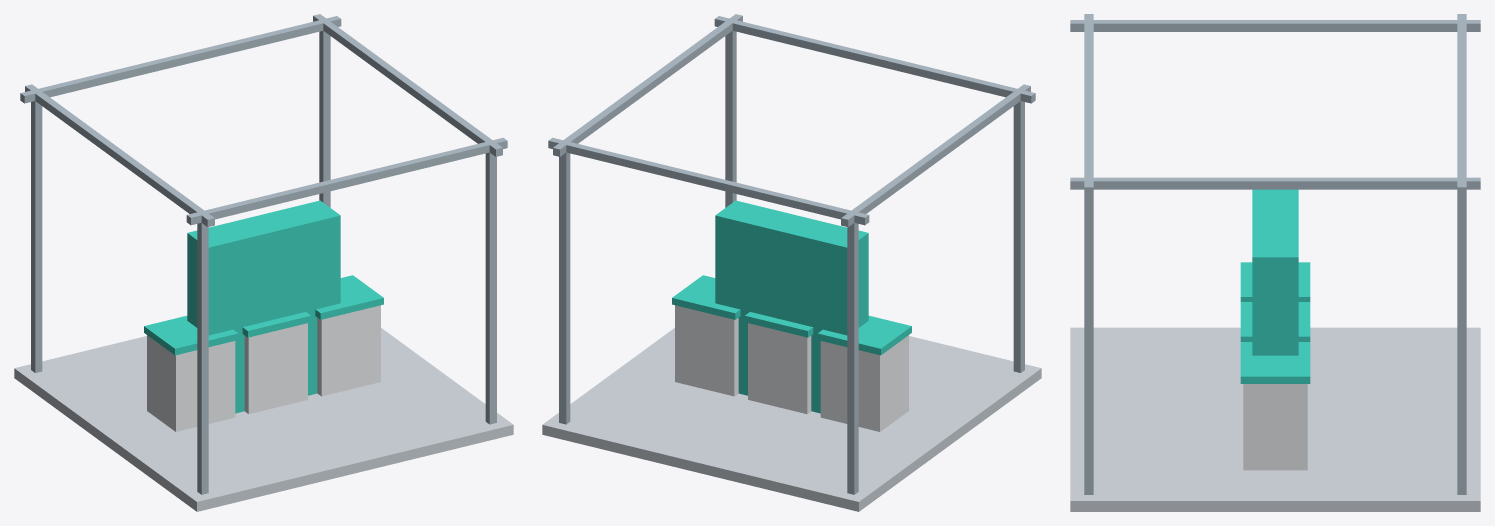
The picture shows the model from 3 angles, left to right: view 1: azimuth 30°, elevation 25°; view 2: azimuth 150°, elevation 25°; view 3: azimuth 270°, elevation 25°; orthographic projection. The views are drawn at different scales.
Visible parts, largest first — view 1: Exhibition Booth Concept; view 2: Exhibition Booth Concept; view 3: Exhibition Booth Concept.
Part boxes in pixels (<box>): Exhibition Booth Concept: <box>14,14,513,511</box>; Exhibition Booth Concept: <box>542,14,1041,511</box>; Exhibition Booth Concept: <box>1070,14,1480,511</box>.
Size of the model in its own units: 4 by 3.49 by 4.
